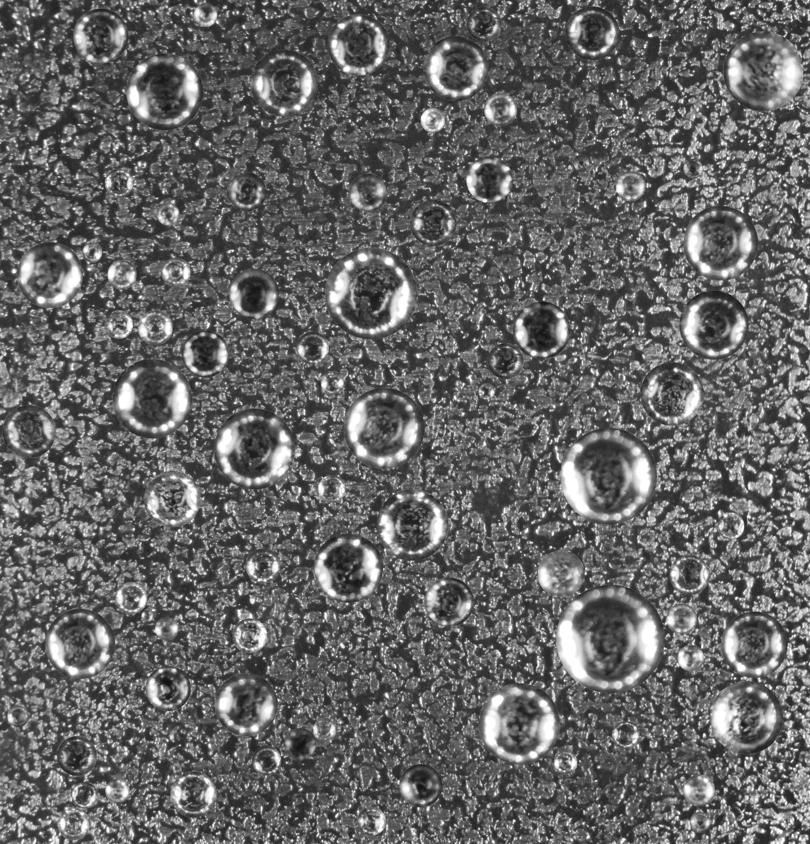Bubble: (556, 584, 664, 693), (560, 428, 656, 524), (325, 247, 417, 339), (478, 683, 559, 764), (343, 387, 424, 468), (214, 408, 294, 489), (723, 31, 803, 111), (112, 359, 191, 438), (126, 53, 202, 130), (683, 205, 758, 280), (710, 681, 783, 754), (376, 489, 448, 560), (45, 609, 114, 678), (679, 290, 748, 359), (313, 533, 382, 602), (250, 49, 317, 116), (721, 611, 787, 677), (17, 242, 82, 307), (423, 36, 488, 100), (214, 673, 277, 736), (640, 362, 703, 425), (327, 14, 389, 75), (513, 301, 570, 358), (144, 471, 200, 527), (73, 8, 128, 63), (565, 6, 619, 60), (2, 405, 55, 458), (229, 268, 278, 318), (424, 577, 473, 626), (181, 330, 228, 377), (537, 550, 584, 597), (410, 199, 456, 246), (466, 156, 512, 202), (170, 771, 216, 817), (145, 666, 190, 711), (399, 764, 442, 807), (669, 555, 709, 595), (226, 172, 266, 211), (57, 736, 96, 775), (349, 173, 387, 211), (487, 343, 523, 378), (137, 310, 172, 345), (245, 548, 280, 583), (232, 618, 267, 653), (466, 6, 501, 41), (484, 92, 517, 125), (296, 331, 328, 364), (57, 808, 89, 840), (683, 774, 715, 806), (284, 728, 316, 760), (115, 582, 147, 613), (666, 603, 697, 634), (615, 171, 645, 201), (161, 257, 190, 286), (252, 746, 281, 775), (107, 260, 136, 289), (104, 310, 132, 338), (104, 168, 132, 196), (357, 807, 385, 835), (612, 721, 639, 749), (318, 475, 345, 502), (717, 512, 744, 539), (677, 645, 704, 671), (71, 782, 97, 808), (420, 108, 445, 132), (105, 779, 129, 803), (553, 750, 577, 774), (193, 3, 217, 26), (313, 718, 336, 741), (155, 617, 178, 640), (320, 371, 343, 394), (157, 203, 179, 225), (7, 705, 28, 727), (690, 812, 710, 832), (82, 242, 102, 262), (683, 158, 702, 178), (572, 154, 589, 171), (478, 383, 494, 399), (141, 610, 153, 621), (785, 516, 795, 526)
